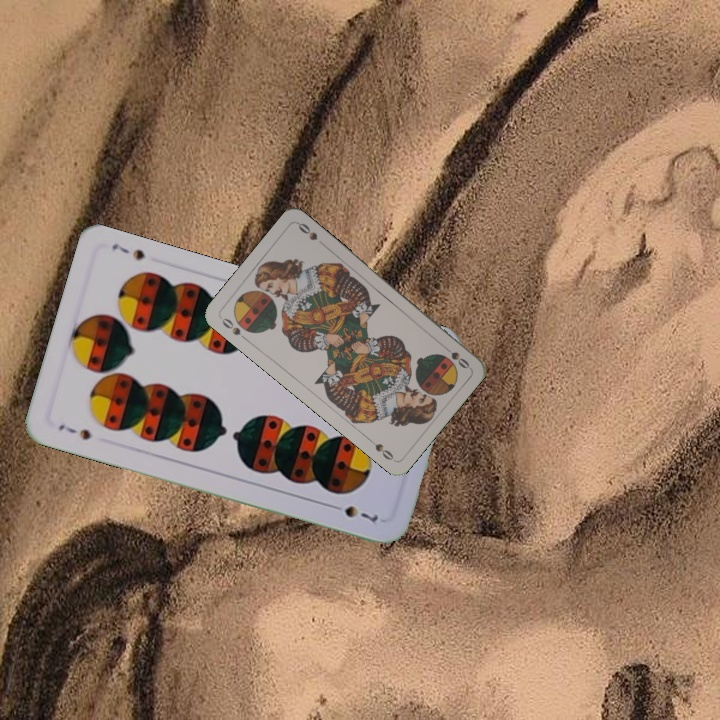S7: (54, 420, 94, 443)
SO: (438, 340, 472, 371), (218, 314, 250, 344)
